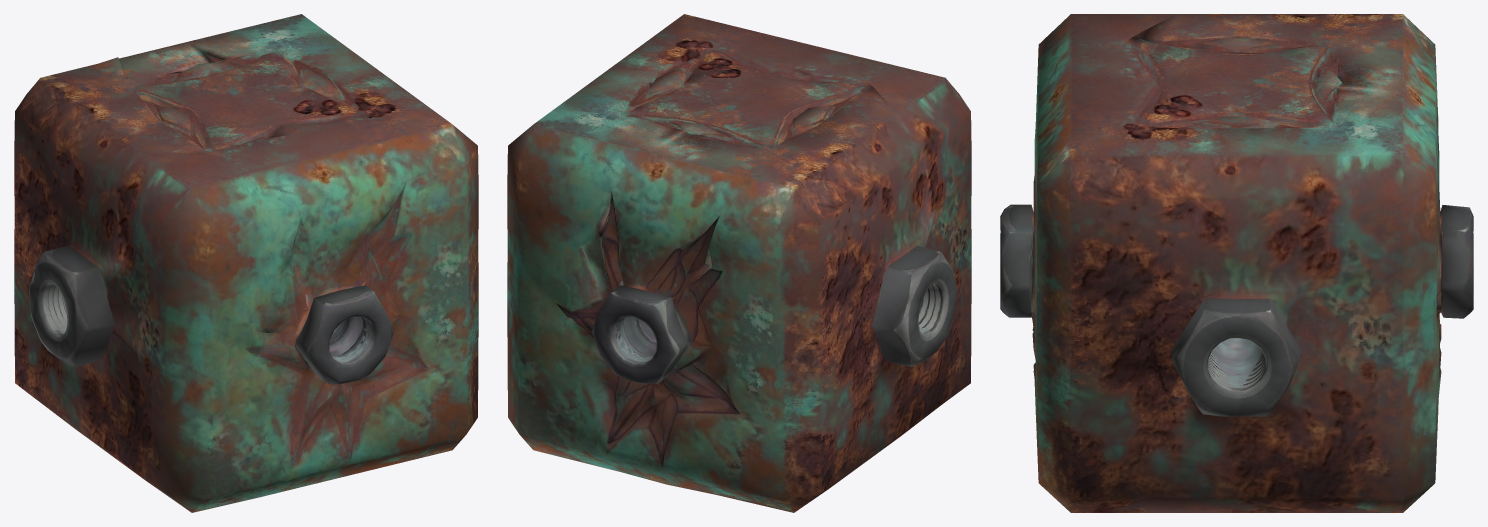
File: Meshy_AI_Ss_0330101045_texture.fbx
The picture shows the model from 3 angles, left to right: view 1: azimuth 30°, elevation 25°; view 2: azimuth 150°, elevation 25°; view 3: azimuth 270°, elevation 25°; orthographic projection. The views are drawn at different scales.
Parts seen in each view (by area): view 1: Mesh_0; view 2: Mesh_0; view 3: Mesh_0.
Part boxes in pixels (x1,y1,x2,y2): Mesh_0: [14, 14, 478, 512]; Mesh_0: [507, 14, 971, 512]; Mesh_0: [1000, 14, 1473, 512].
Size of the model in its own units: 191 by 159 by 184.
1 material, 1 textured.
